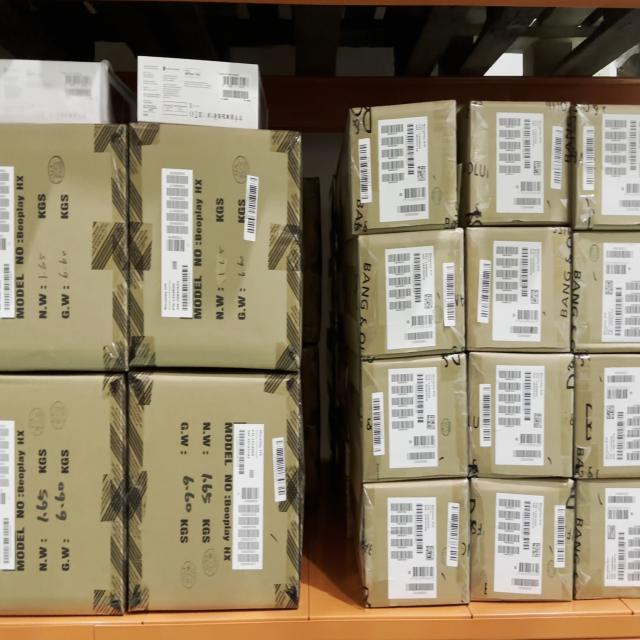box: (131, 134, 300, 368), (130, 376, 298, 610), (362, 234, 464, 356), (471, 354, 573, 476), (367, 485, 468, 605), (468, 230, 570, 348), (472, 481, 574, 599), (353, 109, 456, 225), (363, 363, 467, 476), (472, 104, 570, 220), (139, 66, 257, 122)
